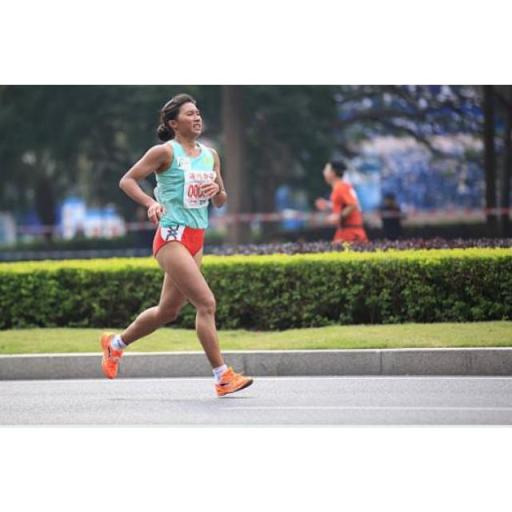Running: (101, 93, 251, 396)
